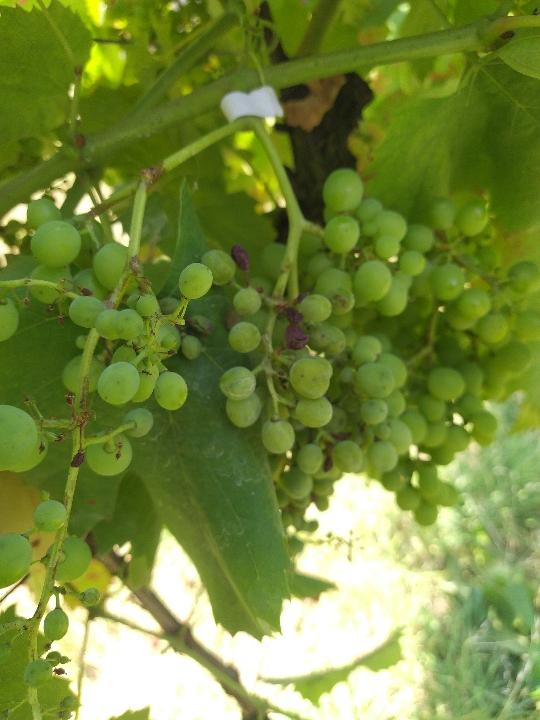grape: (199, 170, 435, 502)
